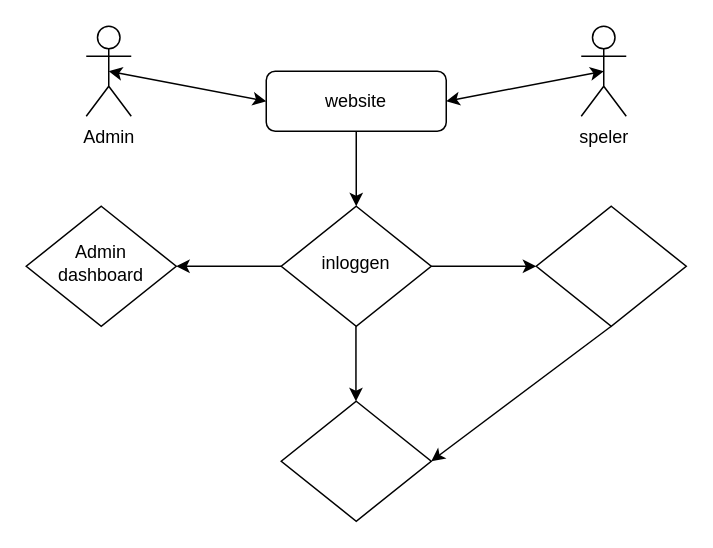
This 713x548 diagram has some shape labels left out. The shapes that lost their labels are listed below. From the top down, each one's box as (x1, y1, x2, y2) in pixels, then its label:
(535, 205, 686, 326): Registreren
(280, 400, 431, 521): dashboard
